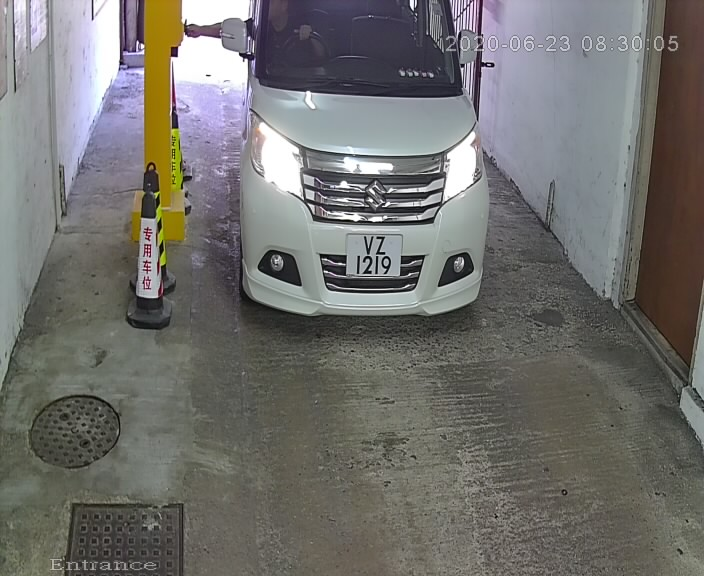privatecar: (204, 1, 505, 344)
